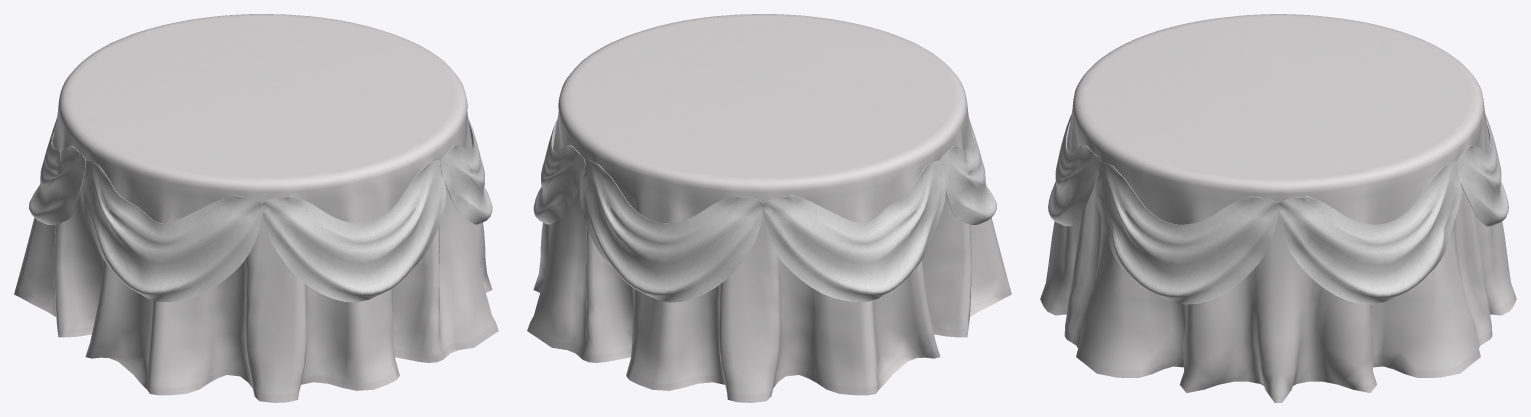
Rendered from EventTable03Cloth01_2.FBX.
3 views of the same model, side by side, from view 1: azimuth 30°, elevation 25°; view 2: azimuth 150°, elevation 25°; view 3: azimuth 270°, elevation 25° (orthographic).
Parts seen in each view (by area): view 1: EventTable03Cloth01_2; view 2: EventTable03Cloth01_2; view 3: EventTable03Cloth01_2.
Part boxes in pixels (x1,y1,x2,y2): EventTable03Cloth01_2: (14, 14, 498, 402); EventTable03Cloth01_2: (527, 14, 1011, 402); EventTable03Cloth01_2: (1040, 14, 1516, 402).
Size of what is drawn, in the model's own units: 1.82 by 0.9001 by 1.9.
